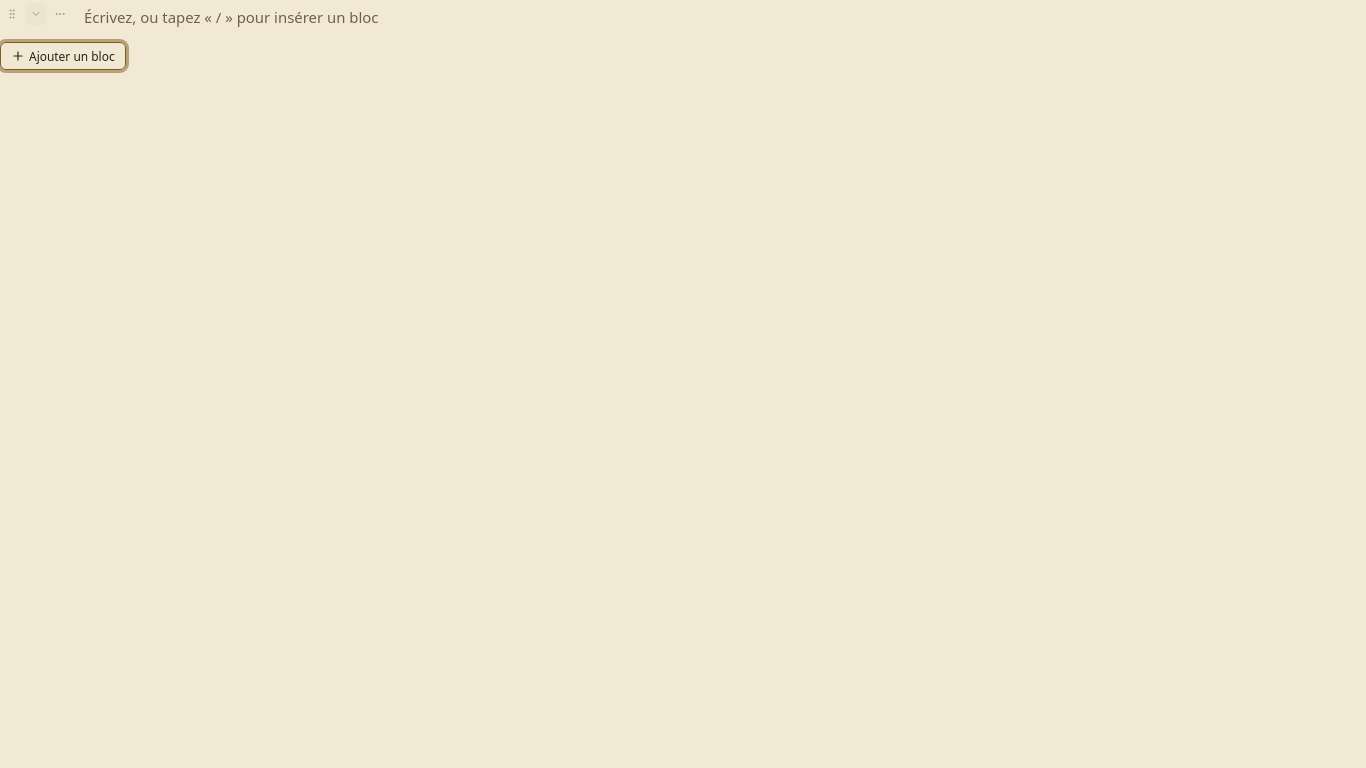
"Add a block" › Image inserts an image block and opens the picker
The width and height of the screenshot is (1366, 768).
Press Enter in the button "Ajouter un bloc", box [0,42,126,70]
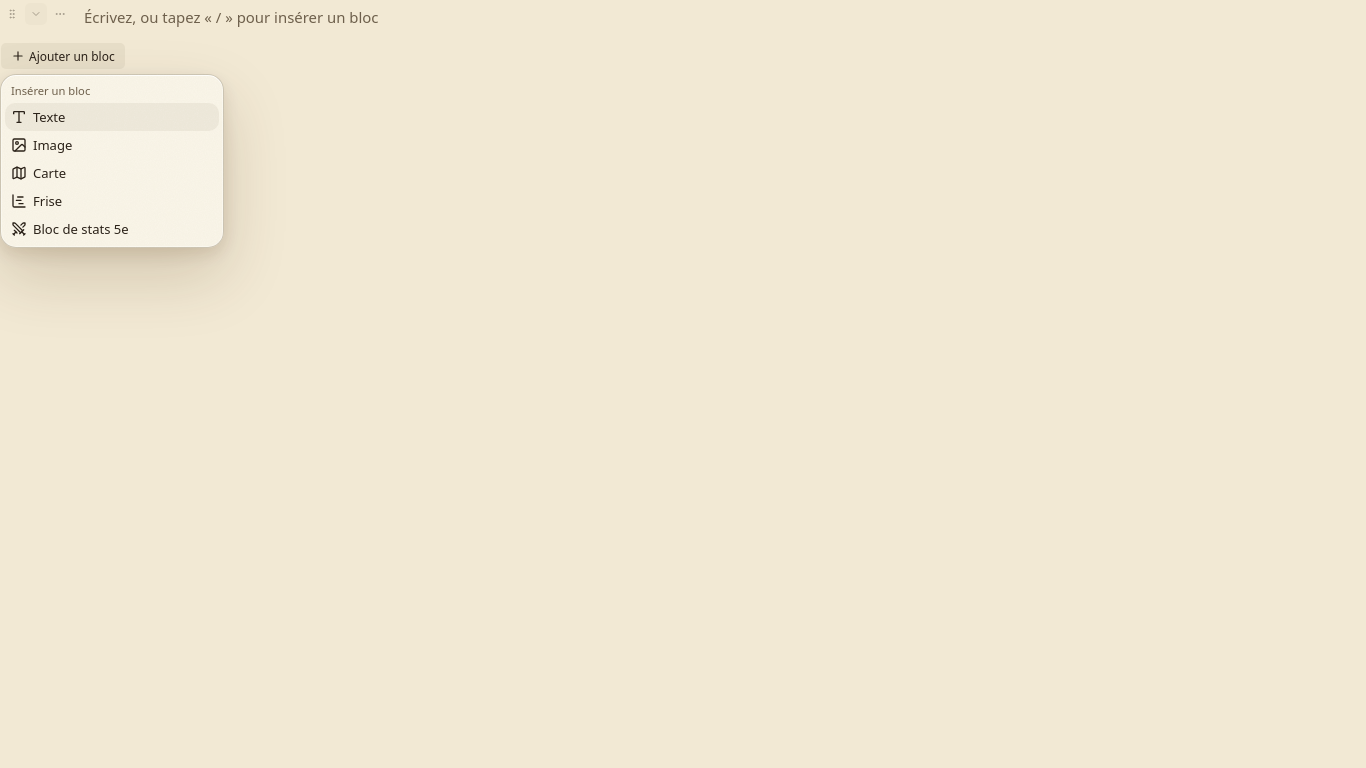
Click the menu item "Image" at (42, 145), box [11,136,72,154]
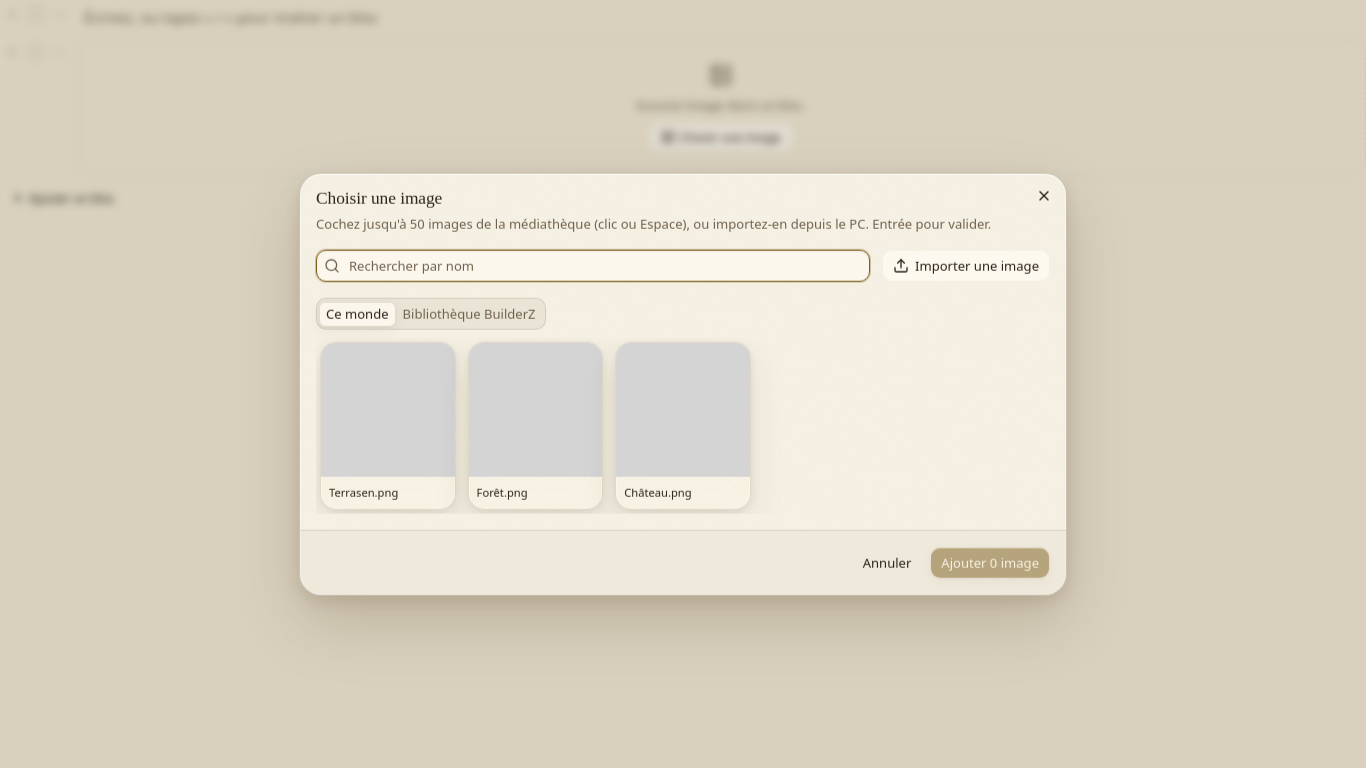
Result: the dialog "Choisir une image" is shown at [299,173,1067,595]
